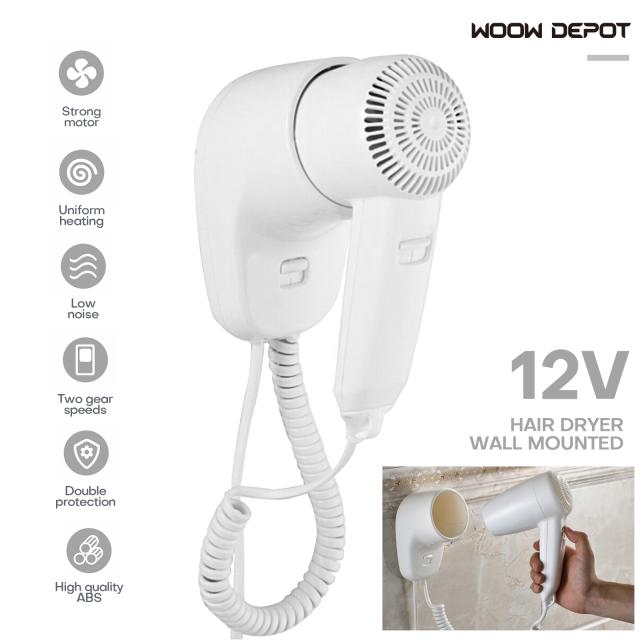dryer: (177, 43, 478, 639)
